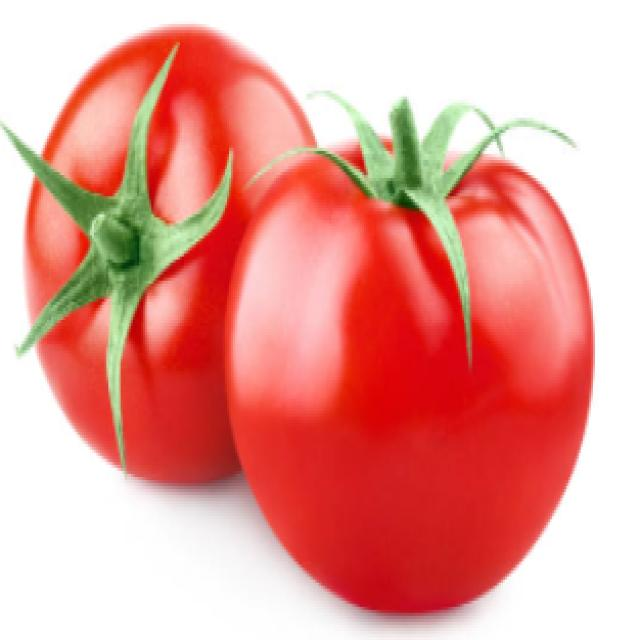Tomato: (209, 78, 611, 621), (7, 17, 310, 515)
